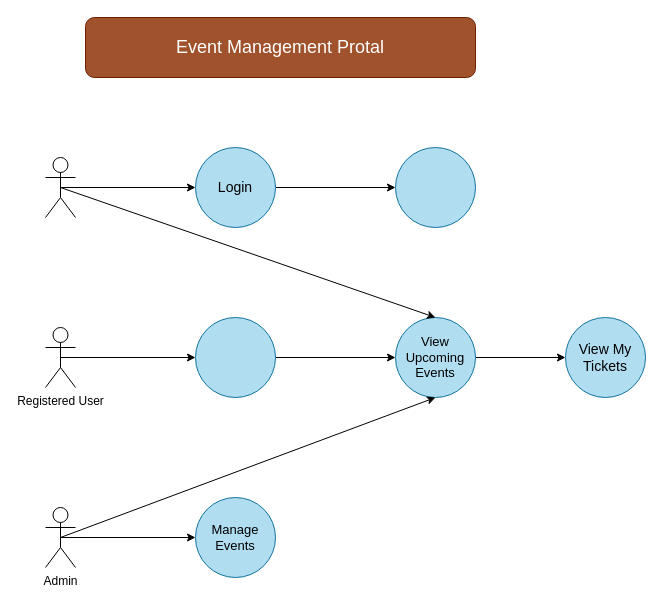
The diagram is 663 pixels wide and 606 high, and some of its shapes have lost their labels. The centre of each missing label's shape, as x and y in pixels:
"Register Account" goes at (435,187).
"Ticket Booking and Payment" goes at (235,357).
"Visitor" goes at (60,187).
